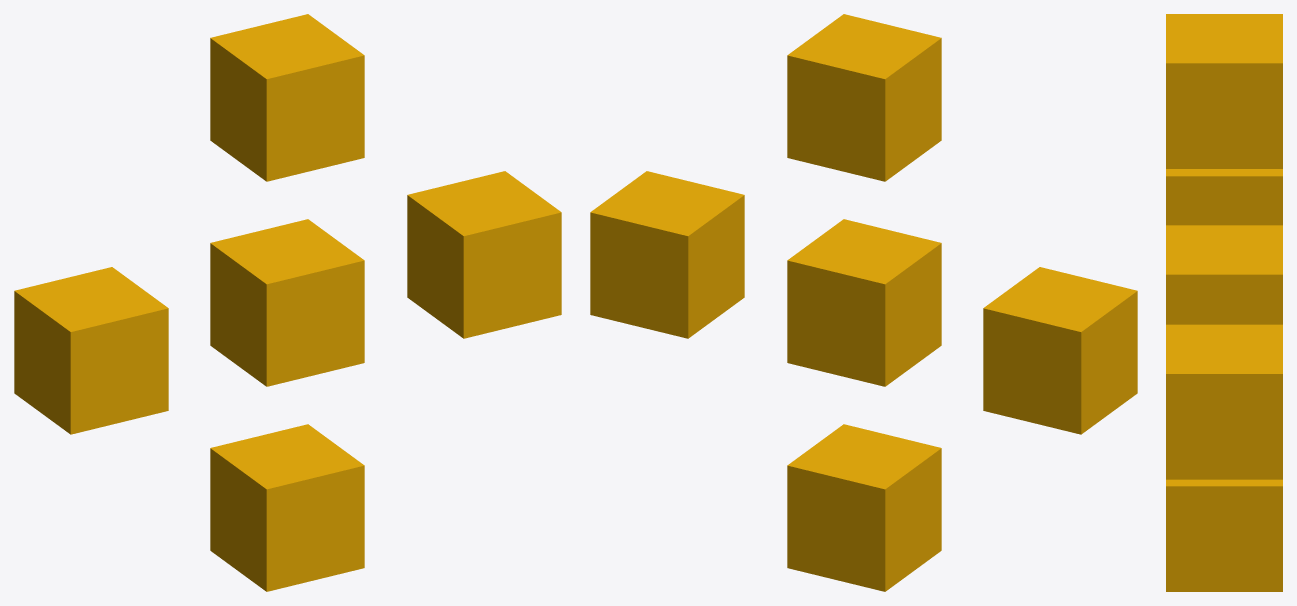
Rendered from houdini.glb.
3 views of the same model, side by side, from view 1: azimuth 30°, elevation 25°; view 2: azimuth 150°, elevation 25°; view 3: azimuth 270°, elevation 25° (orthographic). The views are drawn at different scales.
Visible parts, largest first — view 1: geo1; view 2: geo1; view 3: geo1.
Part boxes in pixels (box(x1,y1,x2,y2)): geo1: box(14, 14, 561, 591); geo1: box(590, 14, 1137, 591); geo1: box(1166, 14, 1282, 591).
Size of the model in its own units: 5.01 by 5 by 1.
